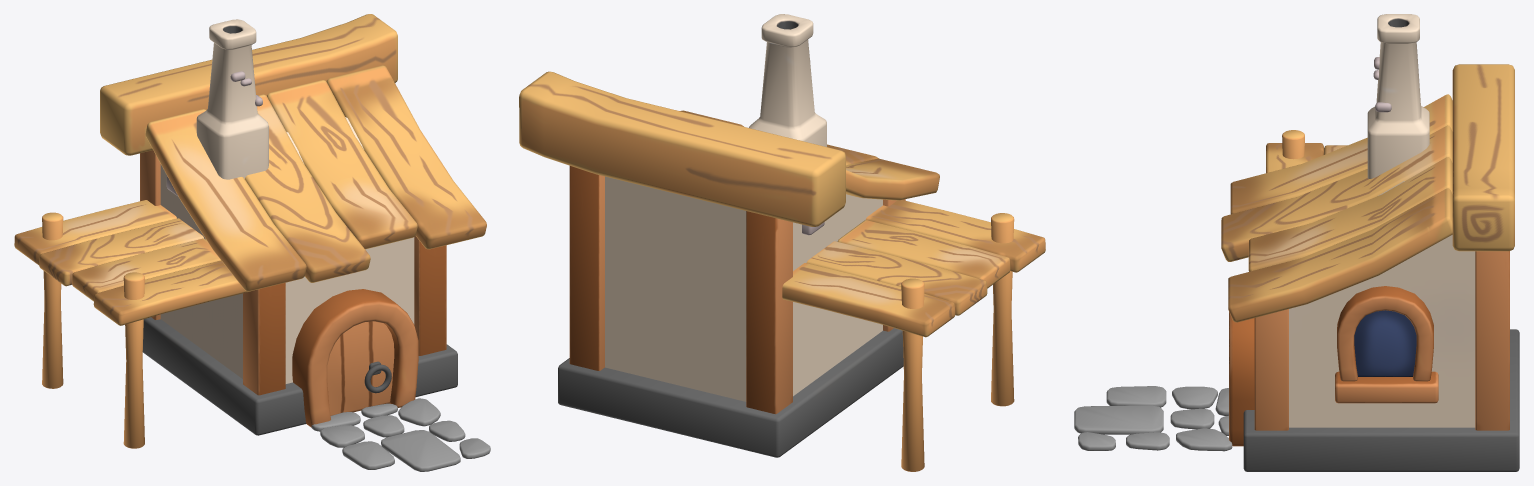
Rendered from house4.fbx.
3 views of the same model, side by side, from view 1: azimuth 30°, elevation 25°; view 2: azimuth 150°, elevation 25°; view 3: azimuth 270°, elevation 25° (orthographic). The views are drawn at different scales.
Visible parts, largest first — view 1: house4; view 2: house4; view 3: house4.
Part boxes in pixels (x1=…): house4: x1=14, y1=14, x2=490, y2=471; house4: x1=519, y1=14, x2=1045, y2=471; house4: x1=1074, y1=14, x2=1519, y2=471.
Bounding box in the file's own units: 693 × 620 × 675.
Materials: 3 (1 with a texture image).
